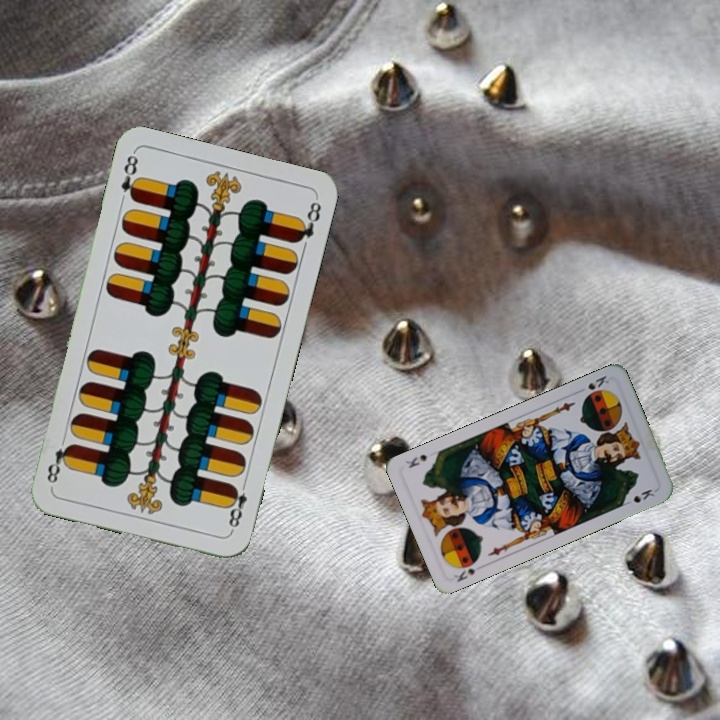E8: (223, 476, 250, 534), (117, 149, 143, 204)
SK: (450, 560, 486, 585), (584, 371, 612, 393)
